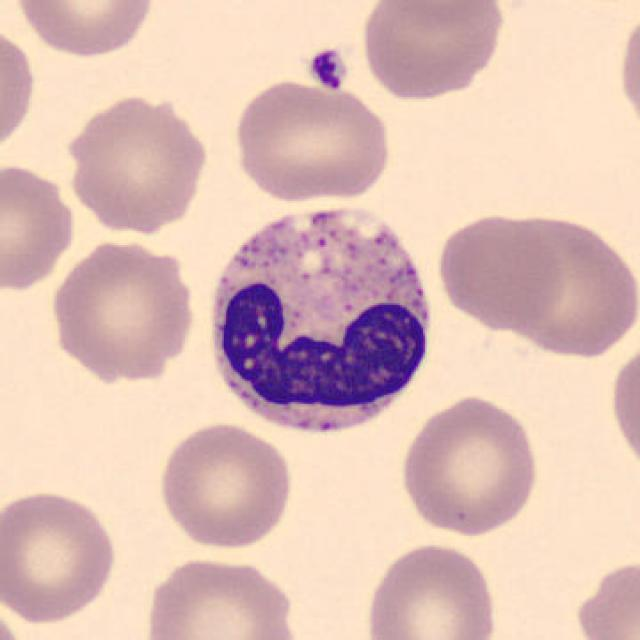Neutrophil: (195, 192, 441, 446)
Platelets: (304, 44, 352, 92)
RBC: (46, 236, 201, 386), (62, 88, 212, 236), (397, 390, 542, 540), (498, 208, 636, 363), (228, 78, 394, 204), (153, 419, 297, 552), (0, 485, 121, 626), (434, 210, 567, 331), (358, 0, 510, 104), (360, 539, 501, 640), (138, 553, 300, 640), (0, 157, 80, 293), (11, 0, 158, 60), (570, 553, 638, 640), (0, 18, 39, 162), (606, 335, 640, 480), (370, 0, 508, 32), (613, 2, 640, 141), (0, 597, 26, 640)
